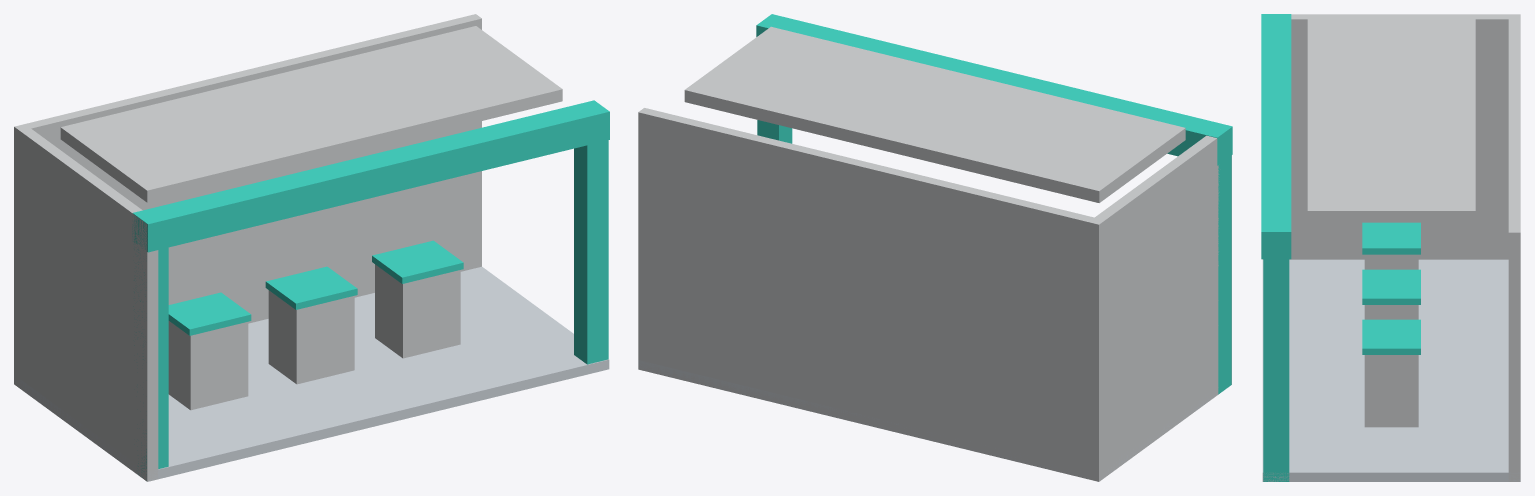
The picture shows the model from 3 angles, left to right: view 1: azimuth 30°, elevation 25°; view 2: azimuth 150°, elevation 25°; view 3: azimuth 270°, elevation 25°; orthographic projection. The views are drawn at different scales.
Visible parts, largest first — view 1: Exhibition Booth Concept; view 2: Exhibition Booth Concept; view 3: Exhibition Booth Concept.
Boxes of the visible parts, left/top/right/bottom form: Exhibition Booth Concept: left=14, top=14, right=609, bottom=481; Exhibition Booth Concept: left=638, top=14, right=1232, bottom=481; Exhibition Booth Concept: left=1261, top=14, right=1520, bottom=481.
Size of the model in its own units: 6 by 3.34 by 3.01.
